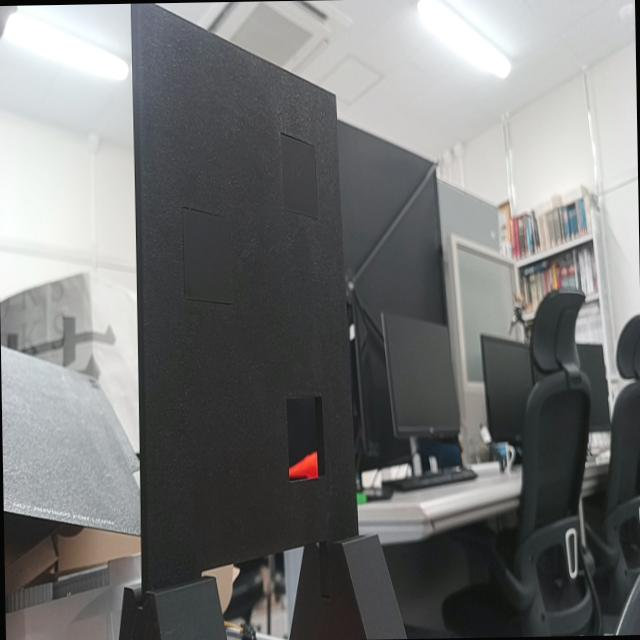Obstacle: (286, 396, 326, 476)
Wall: (137, 3, 359, 578)
